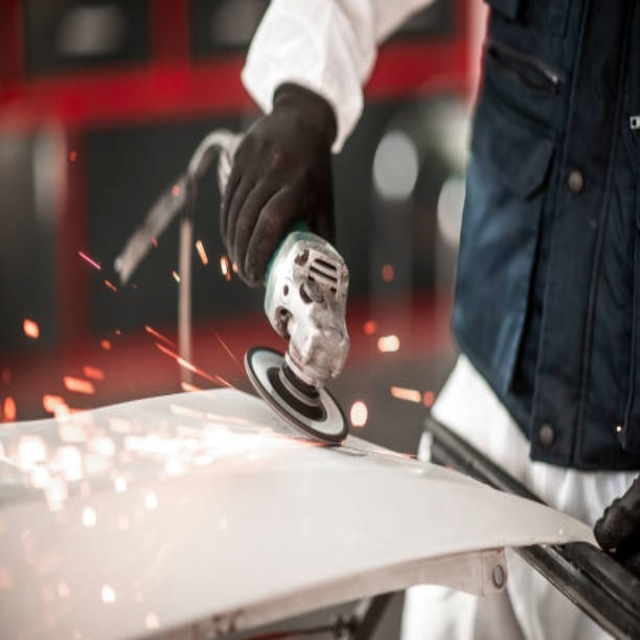Guantes: (218, 78, 339, 278)
